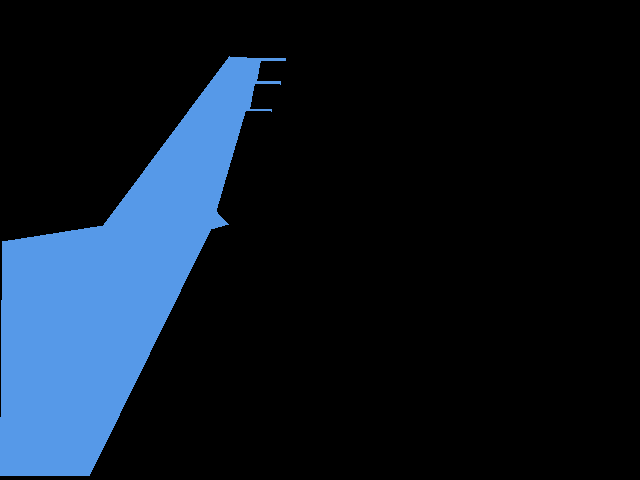Airplane: (0, 56, 285, 475)
